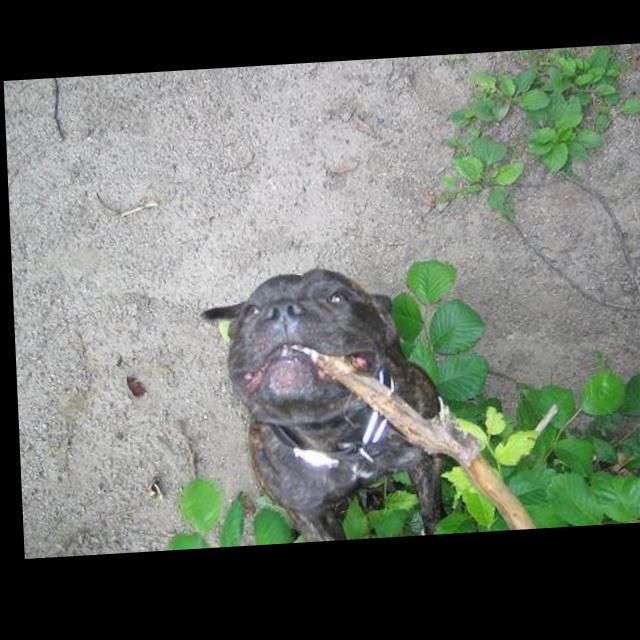staffford: (199, 265, 451, 552)
